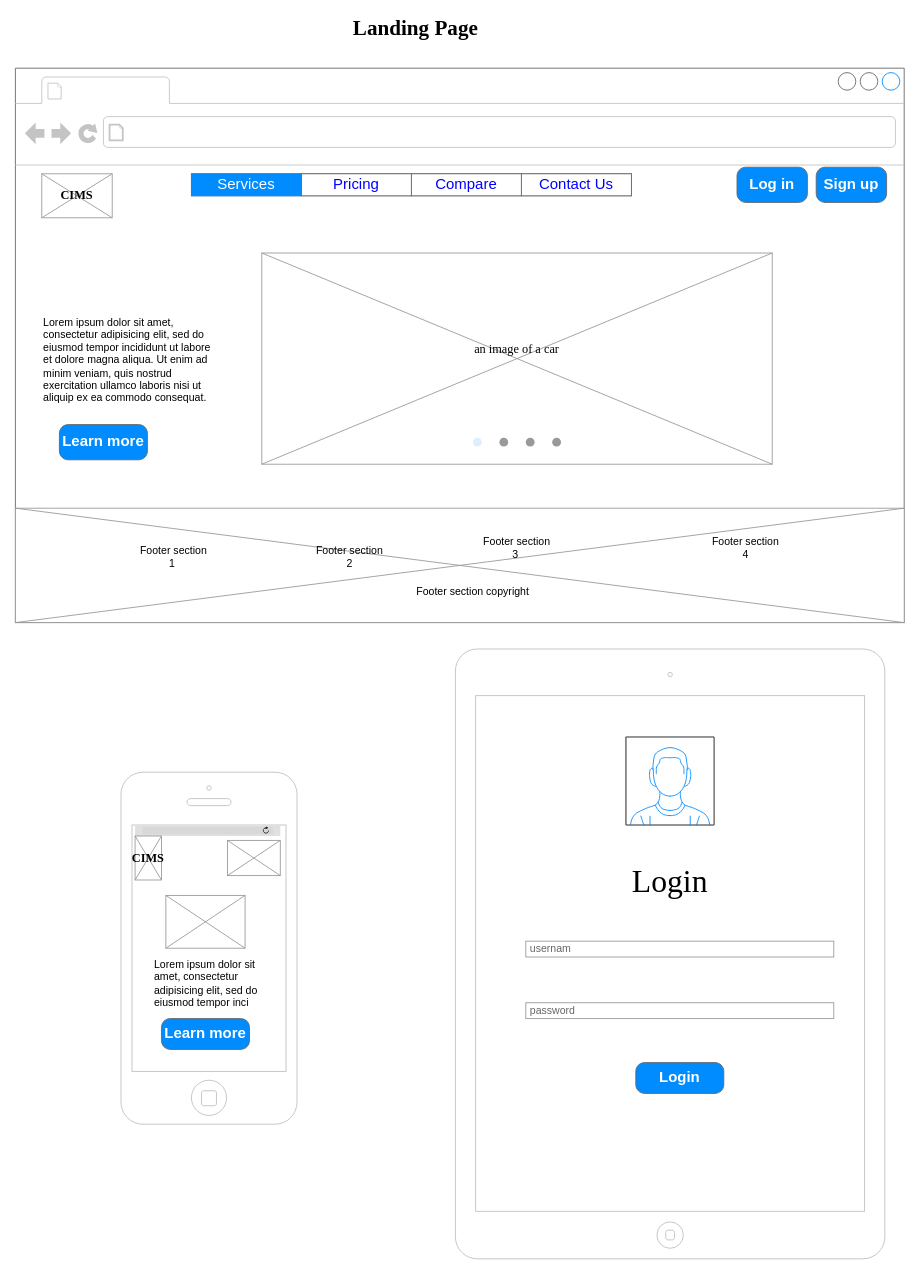
This 920x1274 diagram has some shape labels left out. Each missing label, with the centre of its shape:
"CIMS-Home" belongs at pixel 116 90.
"cims.com" belongs at pixel 207 830.
"https://www.cims.com" belongs at pixel 239 132.
"Menu" belongs at pixel 253 858.
"Picture car" belongs at pixel 205 921.
